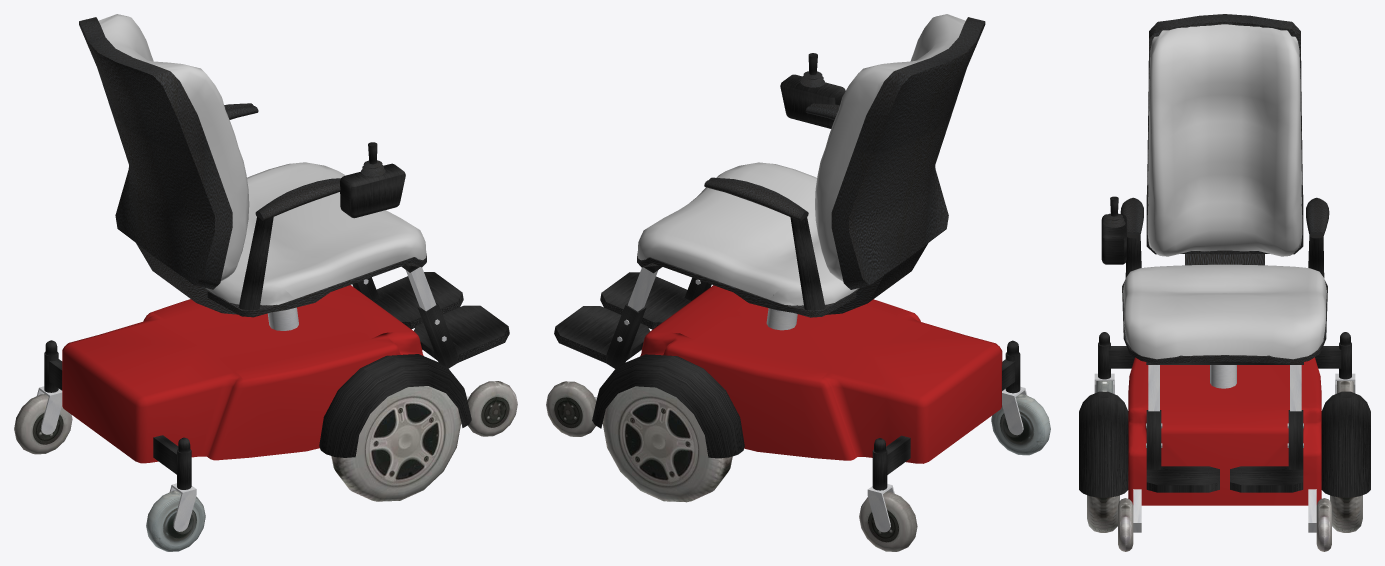
Rendered from powerWheelchair.FBX.
The picture shows the model from 3 angles, left to right: view 1: azimuth 30°, elevation 25°; view 2: azimuth 150°, elevation 25°; view 3: azimuth 270°, elevation 25°; orthographic projection. The views are drawn at different scales.
Visible parts, largest first — view 1: WheelChairBase, plasticRubberParts, fabricParts, blackMetalParts, middleWheelRight, rearWheelRight, frontWheelRight, rearWheelLeft, silverMetalBits, rearWheelBrace01, rearWheelBrace; view 2: WheelChairBase, plasticRubberParts, fabricParts, blackMetalParts, middleWheelLeft, rearWheelRight, frontWheelLeft, rearWheelLeft, silverMetalBits, rearWheelBrace01, rearWheelBrace; view 3: fabricParts, blackMetalParts, WheelChairBase, plasticRubberParts, silverMetalBits, middleWheelLeft, middleWheelRight, frontWheelLeft, frontWheelRight.
Part boxes in pixels (x1=…): WheelChairBase: x1=62, y1=285, x2=423, y2=463; plasticRubberParts: x1=79, y1=17, x2=426, y2=317; fabricParts: x1=98, y1=14, x2=426, y2=305; blackMetalParts: x1=44, y1=142, x2=509, y2=489; middleWheelRight: x1=331, y1=386, x2=461, y2=501; rearWheelRight: x1=146, y1=490, x2=205, y2=551; frontWheelRight: x1=467, y1=381, x2=517, y2=436; rearWheelLeft: x1=14, y1=394, x2=72, y2=454; silverMetalBits: x1=267, y1=267, x2=468, y2=399; rearWheelBrace01: x1=37, y1=386, x2=62, y2=434; rearWheelBrace: x1=169, y1=483, x2=196, y2=531; WheelChairBase: x1=640, y1=285, x2=1002, y2=463; plasticRubberParts: x1=637, y1=17, x2=985, y2=317; fabricParts: x1=637, y1=14, x2=965, y2=305; blackMetalParts: x1=554, y1=53, x2=1020, y2=490; middleWheelLeft: x1=602, y1=386, x2=732, y2=502; rearWheelRight: x1=991, y1=394, x2=1050, y2=455; frontWheelLeft: x1=546, y1=381, x2=596, y2=436; rearWheelLeft: x1=859, y1=491, x2=917, y2=551; silverMetalBits: x1=594, y1=267, x2=797, y2=400; rearWheelBrace01: x1=867, y1=484, x2=894, y2=532; rearWheelBrace: x1=1002, y1=386, x2=1027, y2=435; fabricParts: x1=1123, y1=24, x2=1326, y2=359; blackMetalParts: x1=1079, y1=196, x2=1370, y2=497; WheelChairBase: x1=1128, y1=357, x2=1321, y2=505; plasticRubberParts: x1=1103, y1=14, x2=1329, y2=364; silverMetalBits: x1=1133, y1=365, x2=1316, y2=532; middleWheelLeft: x1=1330, y1=495, x2=1362, y2=532; middleWheelRight: x1=1087, y1=495, x2=1119, y2=532; frontWheelLeft: x1=1316, y1=498, x2=1331, y2=551; frontWheelRight: x1=1118, y1=498, x2=1133, y2=551.
Size of what is drawn, in the model's own units: 84.09 by 93.13 by 59.9.
